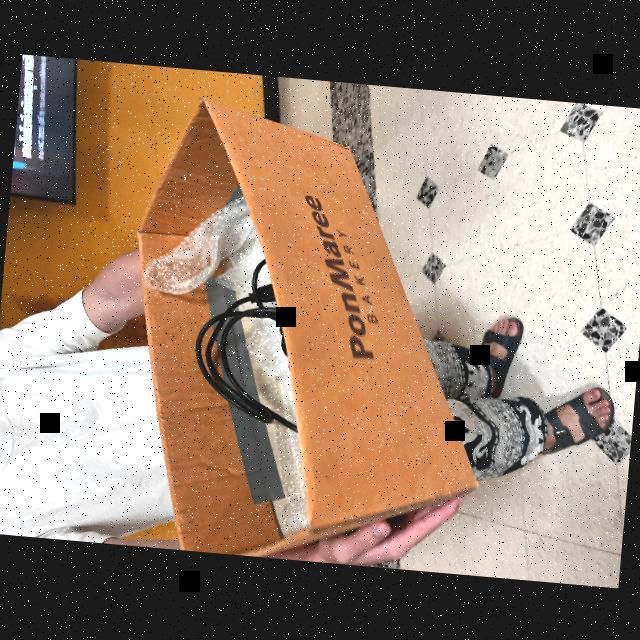cardboard_box: (126, 93, 487, 562)
